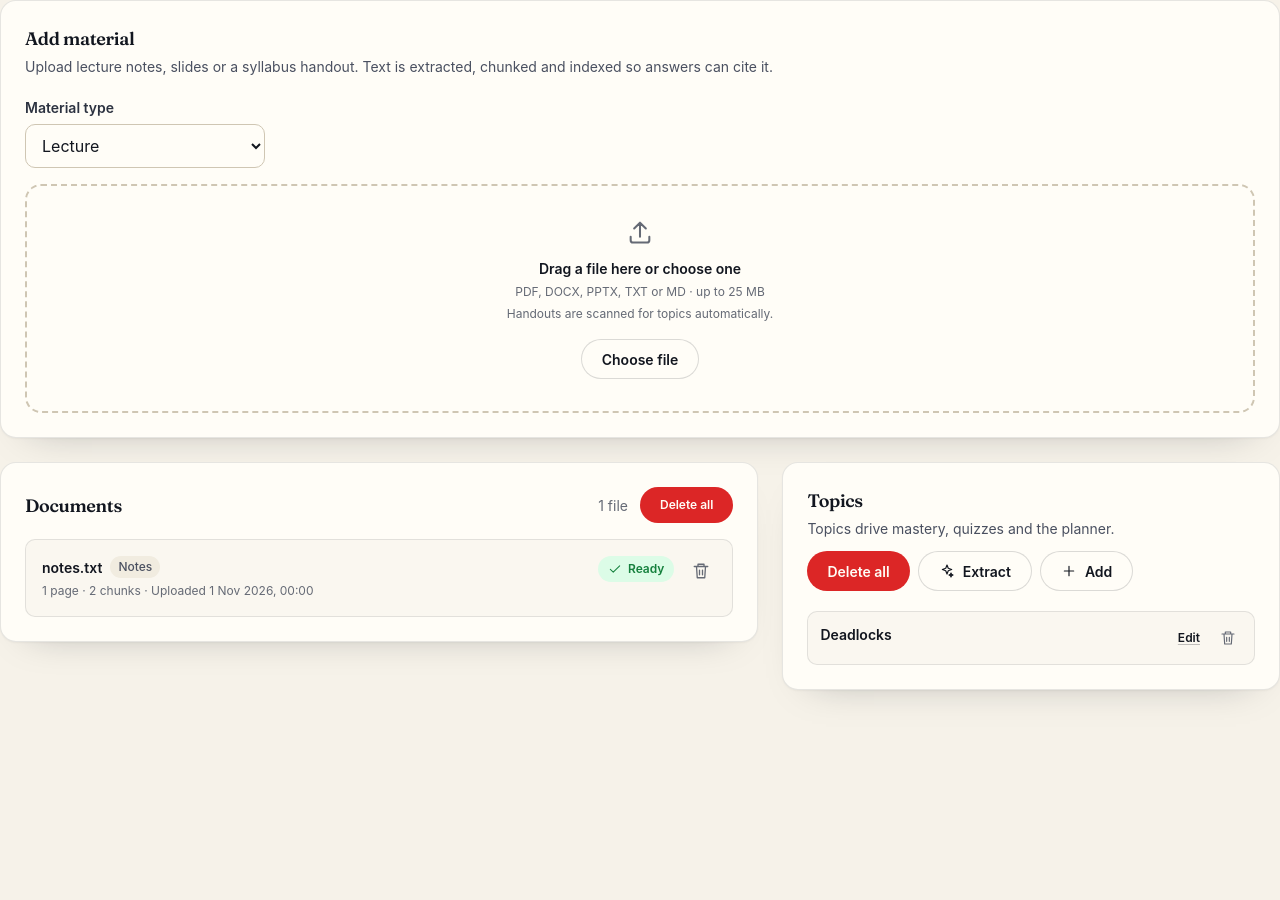
it: LibraryPage delete all › deletes all topics after the typed confirmation matches in any case
The width and height of the screenshot is (1280, 900).
Check: the text "Deadlocks" is shown, box [820,624,892,645]
Click the button with aria-label "Delete all topics" at (859, 571), box [807,551,910,591]
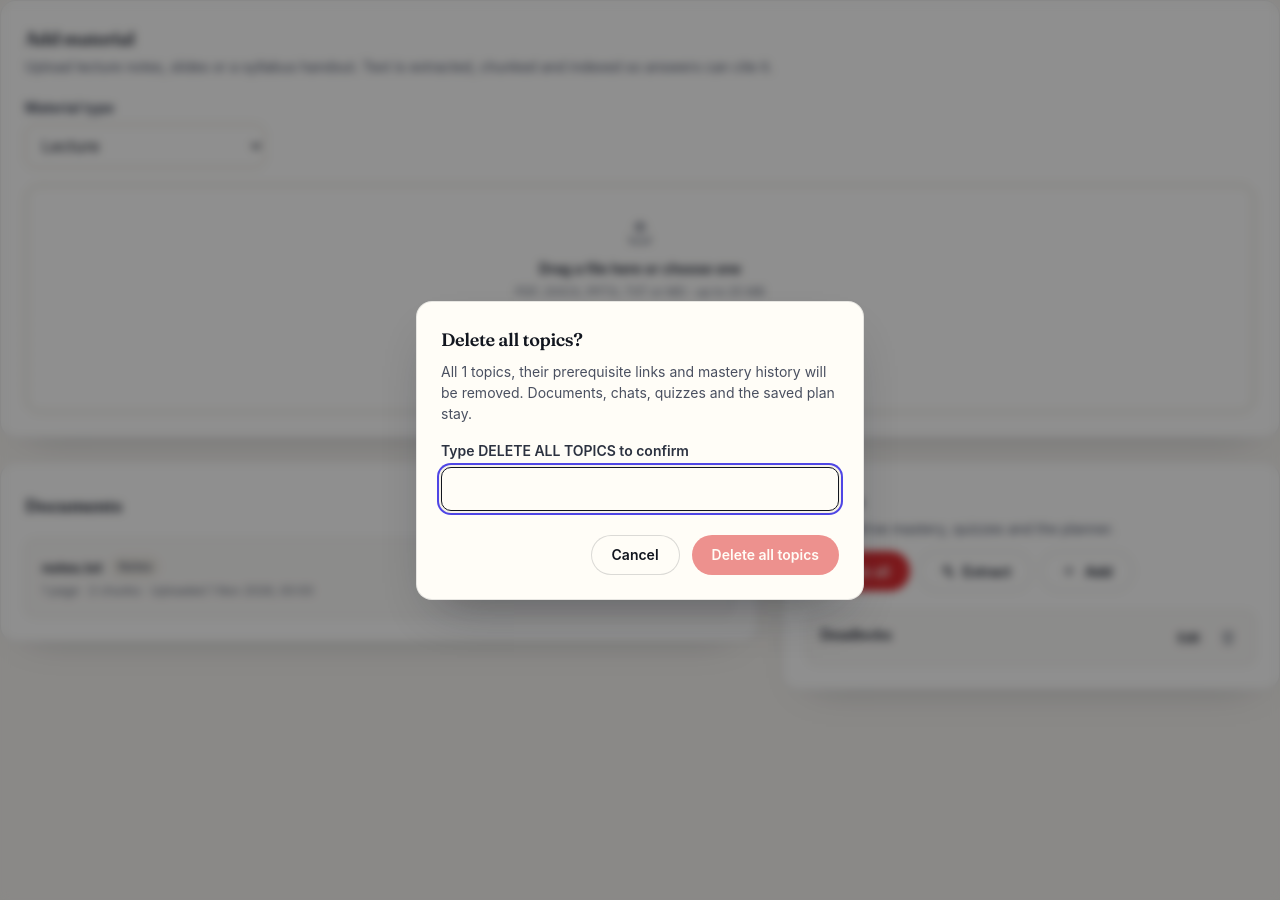
Check: the button "Delete all topics" is disabled, box [692,534,839,574]
Type "Delete All Topics" into the field labelled "Type DELETE ALL TOPICS to confirm" at (640, 488), box [441,466,839,510]
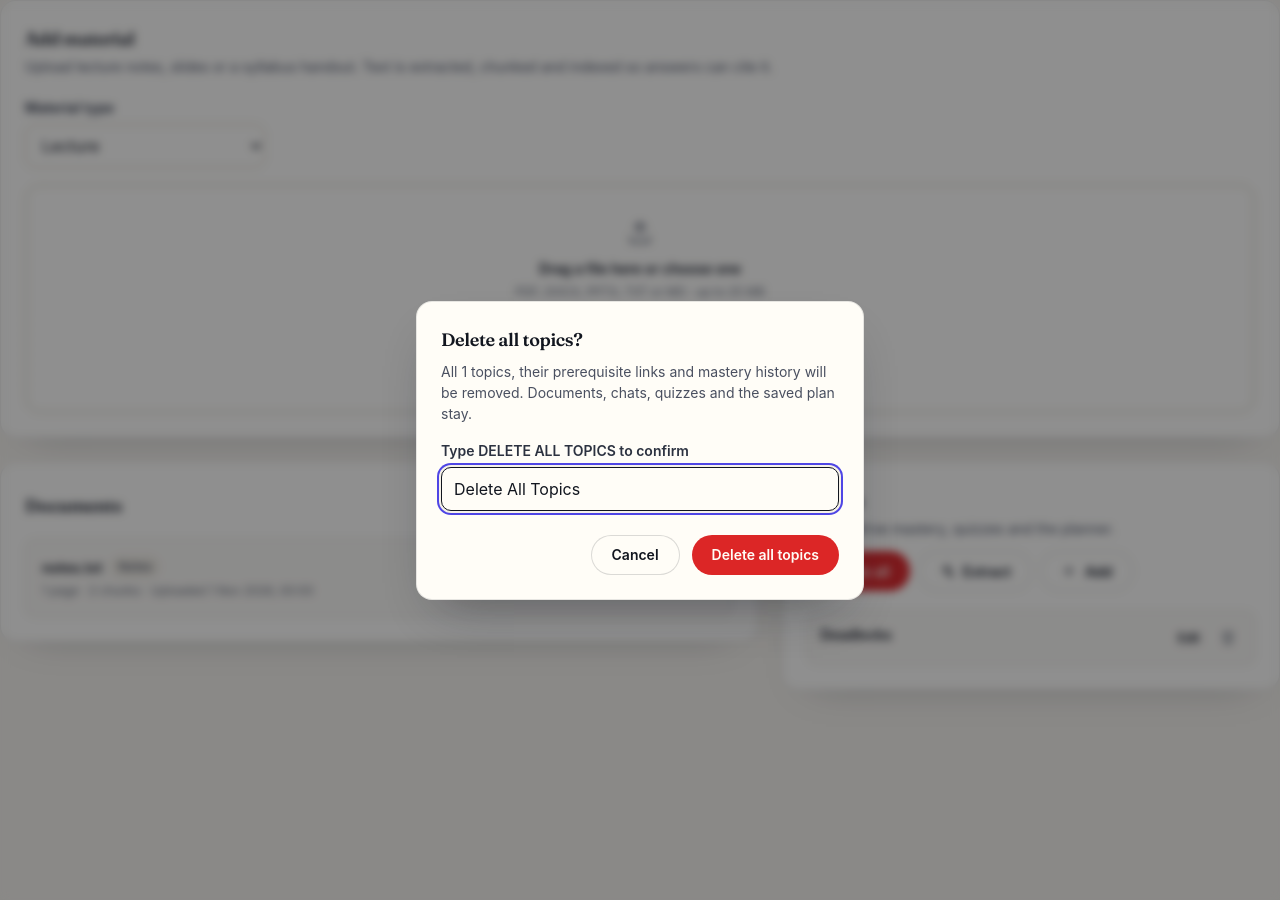
Check: the button "Delete all topics" is enabled
Click the button "Delete all topics" at (765, 554), box [692,534,839,574]
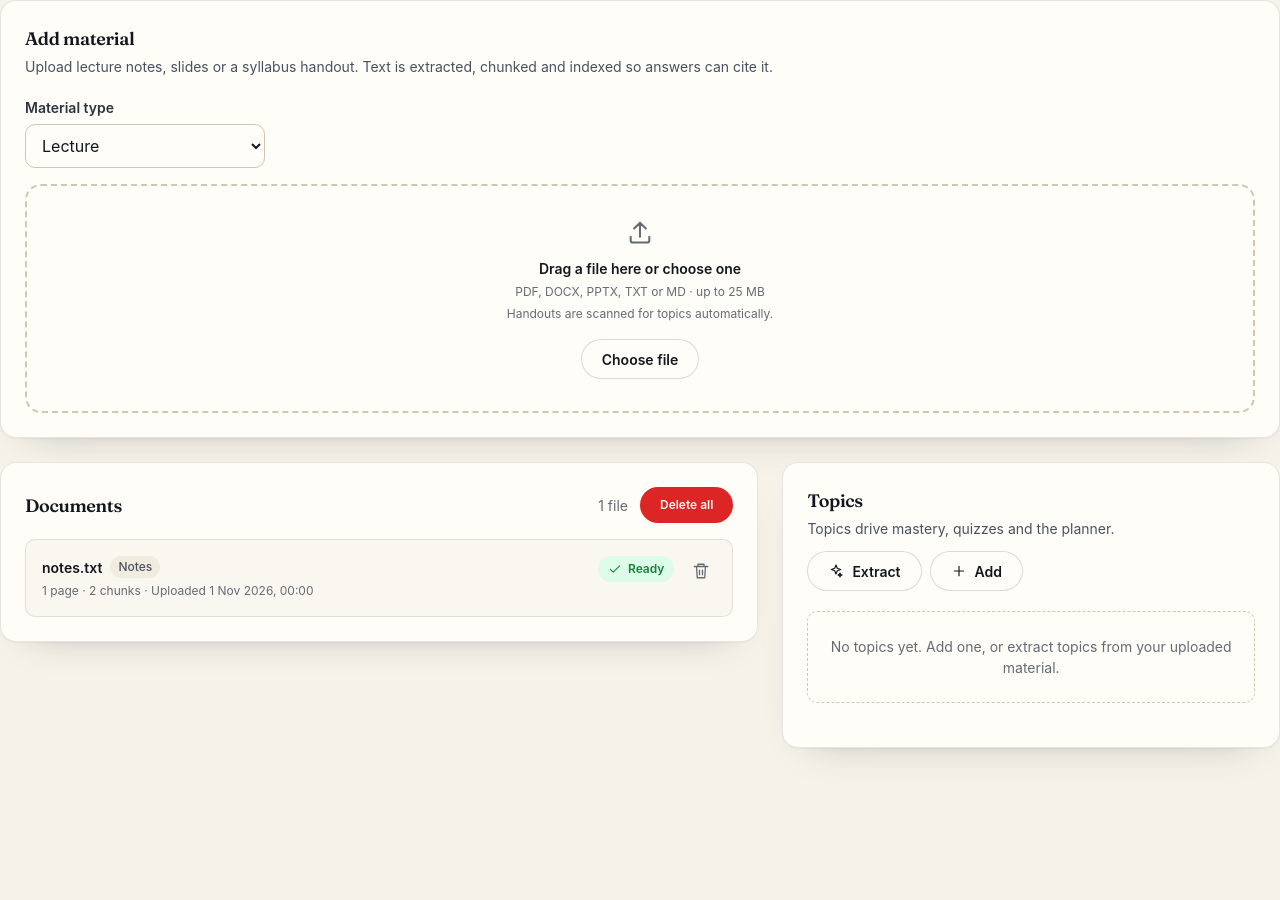
Check: the text "notes.txt" is shown, box [42,556,102,578]
Check: the dialog is gone
Check: the text "No topics yet" is shown, box [831,638,1232,676]
